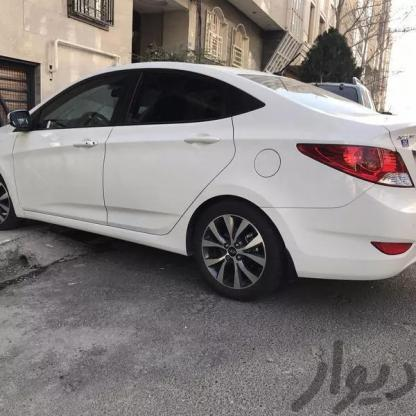Car: (0, 44, 416, 308), (308, 80, 386, 110)
